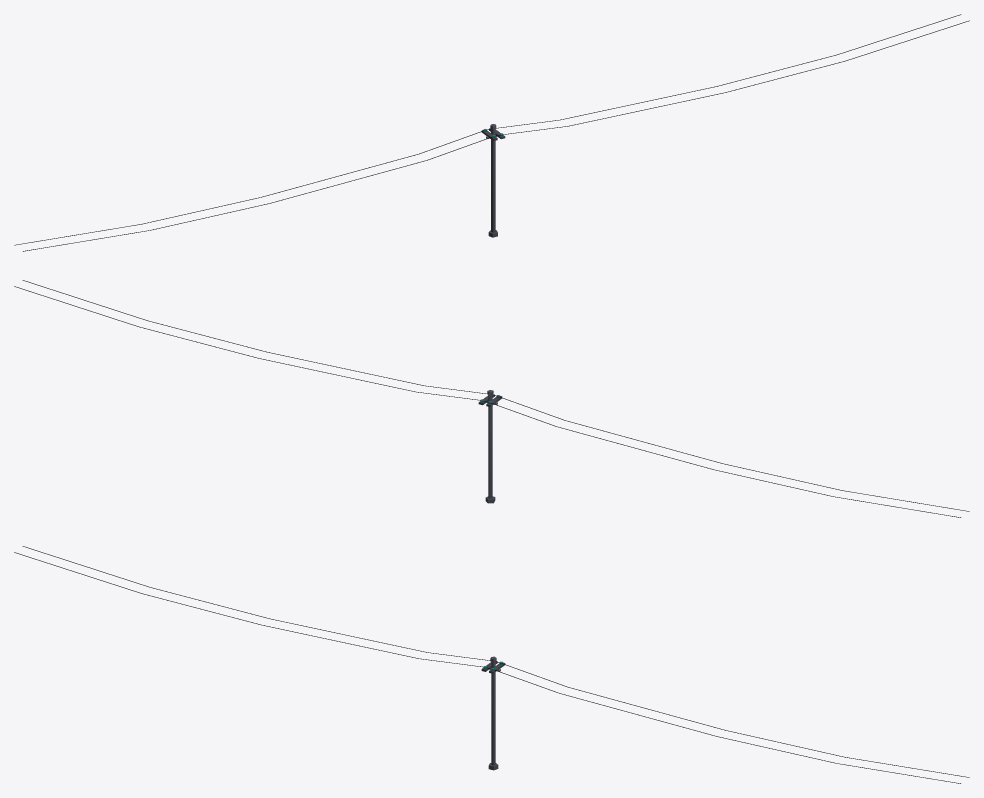
The model's file is SM_Electric_Pole_Big_2.FBX.
3 renders of one model, top to bottom at view 1: azimuth 30°, elevation 25°; view 2: azimuth 150°, elevation 25°; view 3: azimuth 330°, elevation 25°, orthographic.
Parts seen in each view (by area): view 1: SM_Electric_Pole_Big_2; view 2: SM_Electric_Pole_Big_2; view 3: SM_Electric_Pole_Big_2.
Boxes of the visible parts, x1,y1,x2,y2 form: SM_Electric_Pole_Big_2: [14, 14, 969, 251]; SM_Electric_Pole_Big_2: [14, 280, 969, 517]; SM_Electric_Pole_Big_2: [14, 546, 969, 783].
Size of what is drawn, in the model's own units: 9100 by 200 by 1014.
